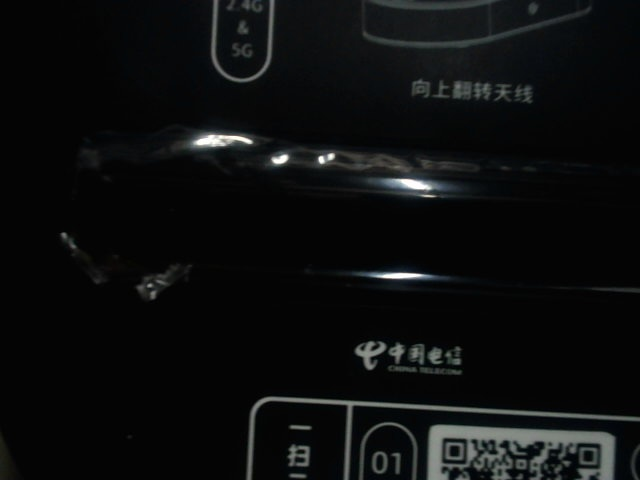AB_ChinaTelecom: (348, 333, 470, 383)
